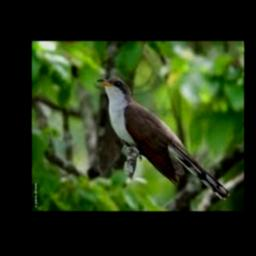Cuckoo: (97, 77, 230, 201)
